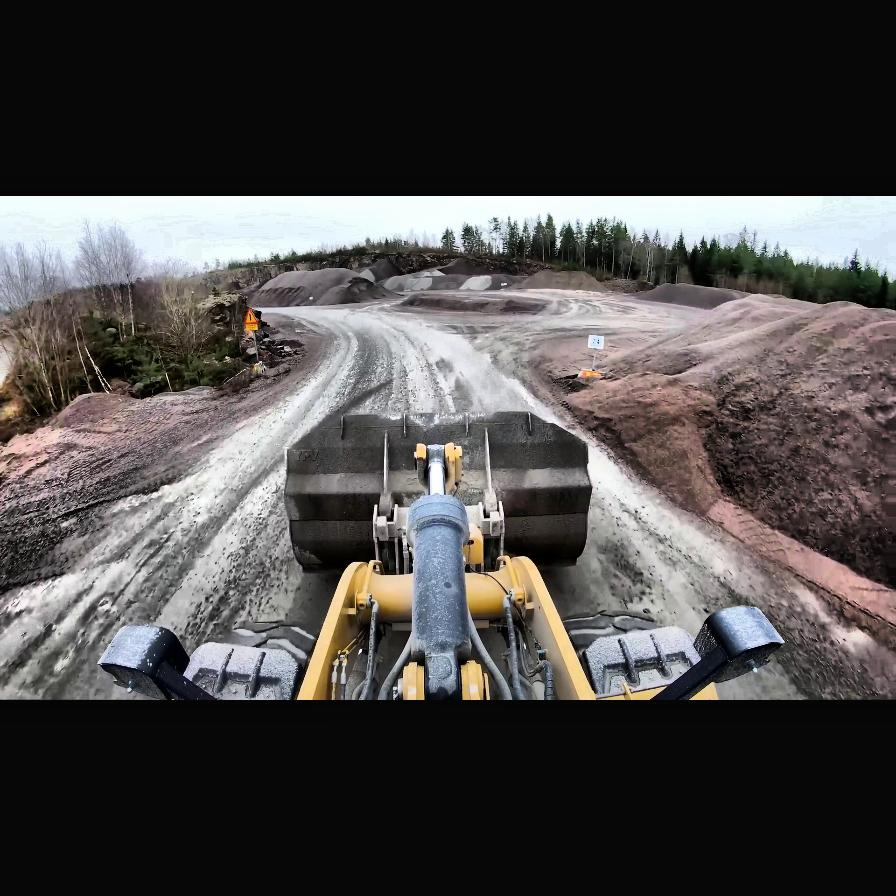anchor: (414, 442, 462, 496)
pile of gravel: (558, 292, 896, 590), (245, 268, 391, 306), (634, 284, 744, 310), (428, 256, 514, 279), (518, 269, 593, 291), (356, 256, 414, 284), (382, 272, 450, 292), (452, 274, 518, 292)
